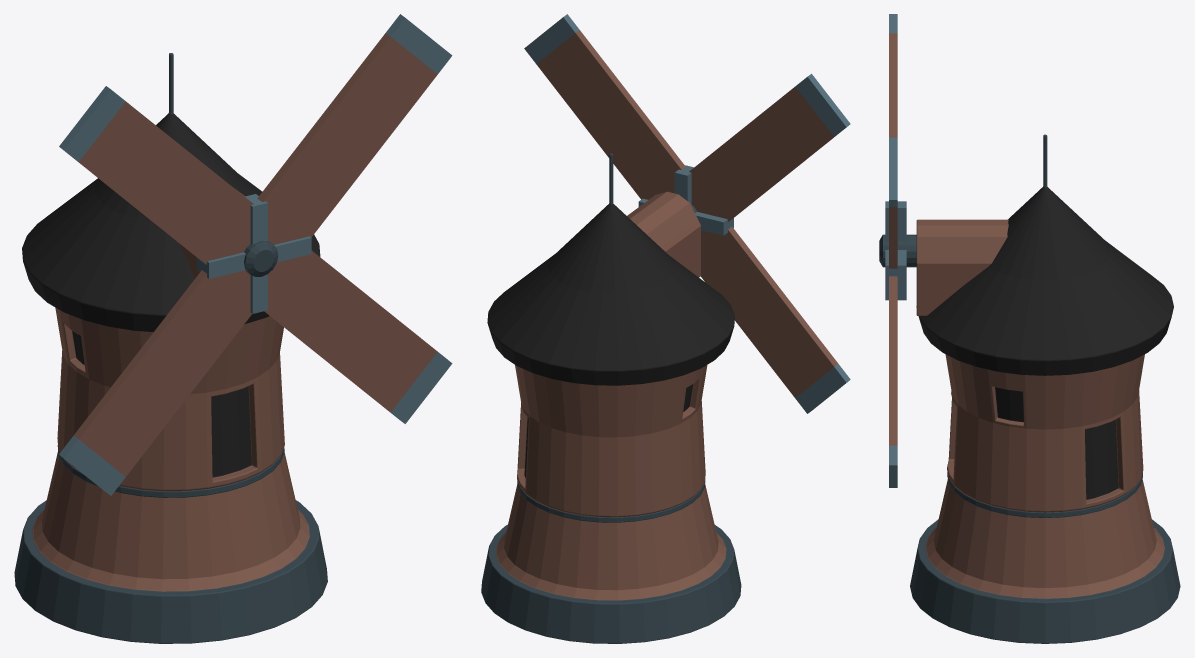
Rendered from Windmill.fbx.
The picture shows the model from 3 angles, left to right: view 1: azimuth 30°, elevation 25°; view 2: azimuth 150°, elevation 25°; view 3: azimuth 270°, elevation 25°; orthographic projection. The views are drawn at different scales.
Parts seen in each view (by area): view 1: Mill, Wheel; view 2: Mill, Wheel; view 3: Mill, Wheel.
Boxes of the visible parts, <box> form: Mill: <box>14,53,327,643</box>; Wheel: <box>59,14,452,495</box>; Mill: <box>481,153,741,643</box>; Wheel: <box>524,14,850,413</box>; Mill: <box>910,134,1180,643</box>; Wheel: <box>879,14,916,487</box>.
Bounding box in the file's own units: 7.84 × 11.41 × 6.11.
